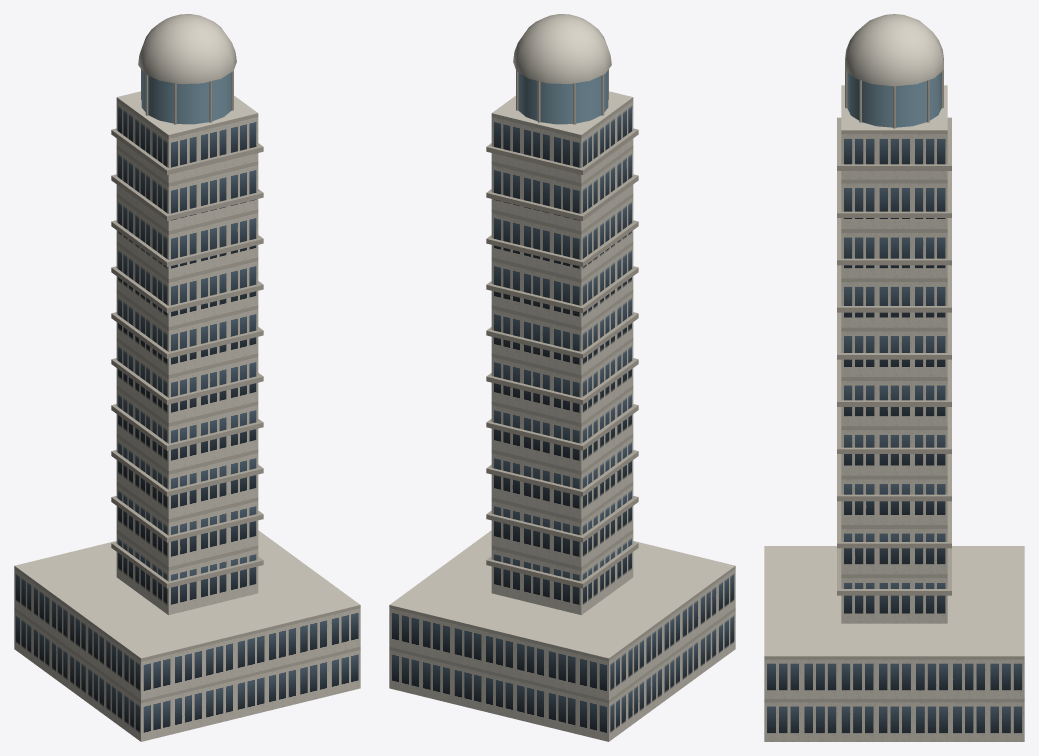
Rendered from boekentoren.obj.
3 views of the same model, side by side, from view 1: azimuth 30°, elevation 25°; view 2: azimuth 150°, elevation 25°; view 3: azimuth 270°, elevation 25° (orthographic). The views are drawn at different scales.
Parts seen in each view (by area): view 1: part2, part1, part22, part13, part12, part5, part9, part11, part4, part8, part3, part7 (+2 smaller); view 2: part2, part1, part22, part13, part12, part5, part9, part11, part4, part8, part3, part7 (+2 smaller); view 3: part2, part1, part22, part13, part5, part10, part12, part3, part4, part9, part7, part8 (+2 smaller).
Boxes of the visible parts, x1,y1,x2,y2 form: part2: [116, 91, 258, 615]; part1: [14, 530, 360, 741]; part22: [138, 14, 236, 83]; part13: [141, 70, 231, 124]; part12: [111, 128, 263, 174]; part5: [111, 450, 263, 496]; part9: [111, 266, 263, 312]; part11: [111, 174, 263, 220]; part4: [111, 496, 263, 542]; part8: [111, 312, 263, 358]; part3: [111, 541, 263, 588]; part7: [111, 358, 263, 404]; part2: [491, 91, 633, 615]; part1: [389, 530, 735, 741]; part22: [513, 14, 611, 83]; part13: [518, 70, 608, 124]; part12: [486, 128, 638, 174]; part5: [486, 450, 638, 496]; part9: [486, 266, 638, 312]; part11: [486, 174, 638, 220]; part4: [486, 496, 638, 542]; part8: [486, 312, 638, 358]; part3: [486, 541, 638, 588]; part7: [486, 358, 638, 404]; part2: [841, 85, 947, 623]; part1: [764, 546, 1024, 741]; part22: [845, 14, 943, 86]; part13: [847, 72, 941, 127]; part5: [837, 454, 951, 501]; part10: [837, 218, 951, 265]; part12: [837, 117, 951, 170]; part3: [837, 548, 951, 595]; part4: [837, 501, 951, 548]; part9: [837, 265, 951, 312]; part7: [837, 359, 951, 406]; part8: [837, 312, 951, 359].
Bounding box in the file's own units: 22 × 62.3 × 22.
Materials: 4 (1 with a texture image).
